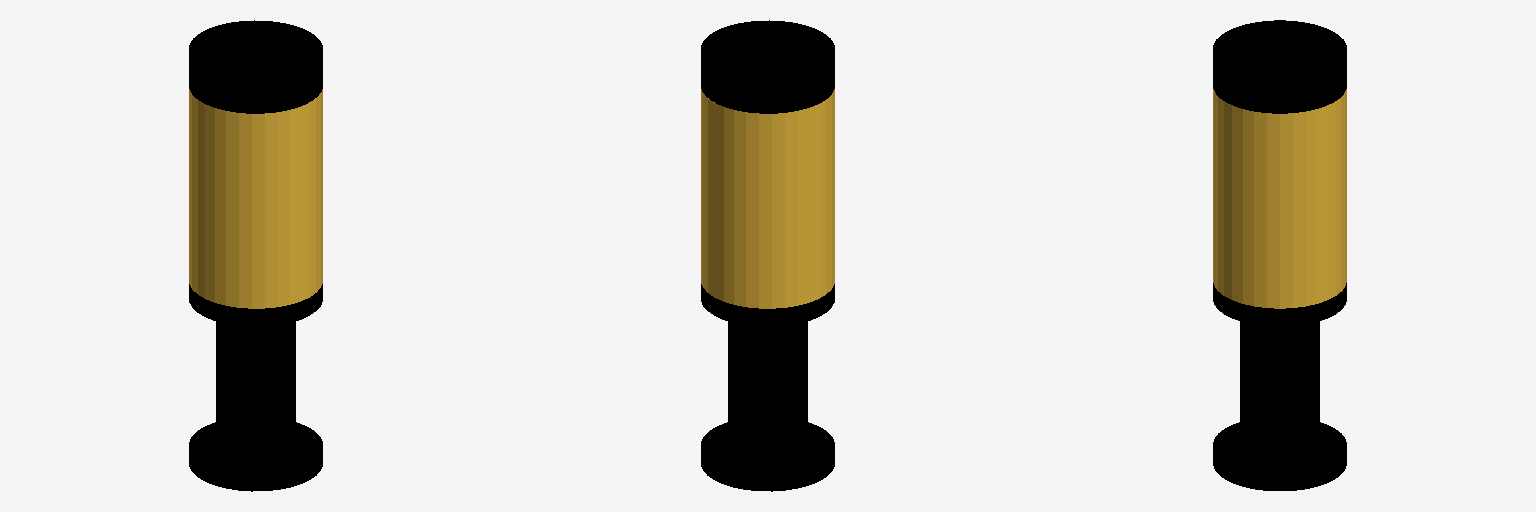
robot.urdf — argo_mini_urdf_lamp:
<?xml version="1.0" encoding="utf-8"?>
<!-- This URDF was automatically created by SolidWorks to URDF Exporter! Originally created by [author] ([email redacted]) 
     Commit Version: 1.6.0-1-g15f4949  Build Version: 1.6.7594.29634
     For more information, please see http://wiki.ros.org/sw_urdf_exporter -->
<robot
  name="argo_mini_urdf_lamp">
  <link
    name="lamp_base">
    <inertial>
      <origin
        xyz="6.38378239159465E-15 -8.74300631892311E-16 0.0375000000000058"
        rpy="0 0 0" />
      <mass
        value="0.0733012105898839" />
      <inertia
        ixx="5.44652027866637E-05"
        ixy="-5.12218042690371E-33"
        ixz="-2.69959795876869E-18"
        iyy="5.44652027866637E-05"
        iyz="-7.62944173723805E-20"
        izz="1.42546821413524E-05" />
    </inertial>
    <visual>
      <origin
        xyz="0 0 0"
        rpy="0 0 0" />
      <geometry>
        <mesh
          filename="package://argo_mini_urdf_lamp/meshes/lamp_base.STL" />
      </geometry>
      <material
        name="">
        <color
          rgba="0 0 0 0.98" />
      </material>
    </visual>
    <collision>
      <origin
        xyz="0 0 0"
        rpy="0 0 0" />
      <geometry>
        <mesh
          filename="package://argo_mini_urdf_lamp/meshes/lamp_base.STL" />
      </geometry>
    </collision>
  </link>
  <link
    name="lamp_mid">
    <inertial>
      <origin
        xyz="1.15740750317173E-14 -7.26849136434282E-16 2.77555756156289E-17"
        rpy="0 0 0" />
      <mass
        value="0.182212373908208" />
      <inertia
        ixx="0.000125650616174202"
        ixy="-8.76298124696192E-33"
        ixz="-4.59448302303838E-18"
        iyy="0.000125650616174202"
        iyz="-1.30367179072451E-19"
        izz="5.6941366846315E-05" />
    </inertial>
    <visual>
      <origin
        xyz="0 0 0"
        rpy="0 0 0" />
      <geometry>
        <mesh
          filename="package://argo_mini_urdf_lamp/meshes/lamp_mid.STL" />
      </geometry>
      <material
        name="">
        <color
          rgba="1 0.807843137254902 0.294117647058824 0.8" />
      </material>
    </visual>
    <collision>
      <origin
        xyz="0 0 0"
        rpy="0 0 0" />
      <geometry>
        <mesh
          filename="package://argo_mini_urdf_lamp/meshes/lamp_mid.STL" />
      </geometry>
    </collision>
  </link>
  <joint
    name="lamp_base_to_mid"
    type="fixed">
    <origin
      xyz="0 0 0.115000000000006"
      rpy="0 0 0" />
    <parent
      link="lamp_base" />
    <child
      link="lamp_mid" />
    <axis
      xyz="0 0 0" />
  </joint>
  <link
    name="lamp_top">
    <inertial>
      <origin
        xyz="1.47798440153224E-14 -6.38378239159465E-16 0"
        rpy="0 0 0" />
      <mass
        value="0.0300414797499524" />
      <inertia
        ixx="5.25725895624166E-06"
        ixy="5.4166779685891E-34"
        ixz="2.78962319744147E-19"
        iyy="5.25725895624167E-06"
        iyz="7.83749151191659E-21"
        izz="9.38796242186012E-06" />
    </inertial>
    <visual>
      <origin
        xyz="0 0 0"
        rpy="0 0 0" />
      <geometry>
        <mesh
          filename="package://argo_mini_urdf_lamp/meshes/lamp_top.STL" />
      </geometry>
      <material
        name="">
        <color
          rgba="0 0 0 0.98" />
      </material>
    </visual>
    <collision>
      <origin
        xyz="0 0 0"
        rpy="0 0 0" />
      <geometry>
        <mesh
          filename="package://argo_mini_urdf_lamp/meshes/lamp_top.STL" />
      </geometry>
    </collision>
  </link>
  <joint
    name="lamp_mid_to_top"
    type="fixed">
    <origin
      xyz="0 0 0.0475"
      rpy="0 0 0" />
    <parent
      link="lamp_mid" />
    <child
      link="lamp_top" />
    <axis
      xyz="0 0 0" />
  </joint>
</robot>

--- Facts derived from the render (not from the file) ---
3 views of the same robot in one strip: view 1: azimuth 30°, elevation 25°; view 2: azimuth 150°, elevation 25°; view 3: azimuth 270°, elevation 25° (orthographic).
Robot: argo_mini_urdf_lamp — 3 links, 2 joints (2 fixed); root link lamp_base; default pose: every joint at zero.
Visible links, largest first — view 1: lamp_mid, lamp_base, lamp_top; view 2: lamp_mid, lamp_base, lamp_top; view 3: lamp_mid, lamp_base, lamp_top.
Link boxes in pixels (x1,y1,x2,y2): lamp_mid: (189,89,322,308); lamp_base: (189,284,322,491); lamp_top: (189,20,322,113); lamp_mid: (701,89,834,308); lamp_base: (701,284,834,491); lamp_top: (701,20,834,113); lamp_mid: (1213,89,1346,308); lamp_base: (1213,283,1346,490); lamp_top: (1213,20,1346,113).
Bounding box of the posed robot: 0.05 × 0.05 × 0.17 m (x, y, z).
3 mesh visuals loaded from 3 distinct referenced files (3 binary STL).